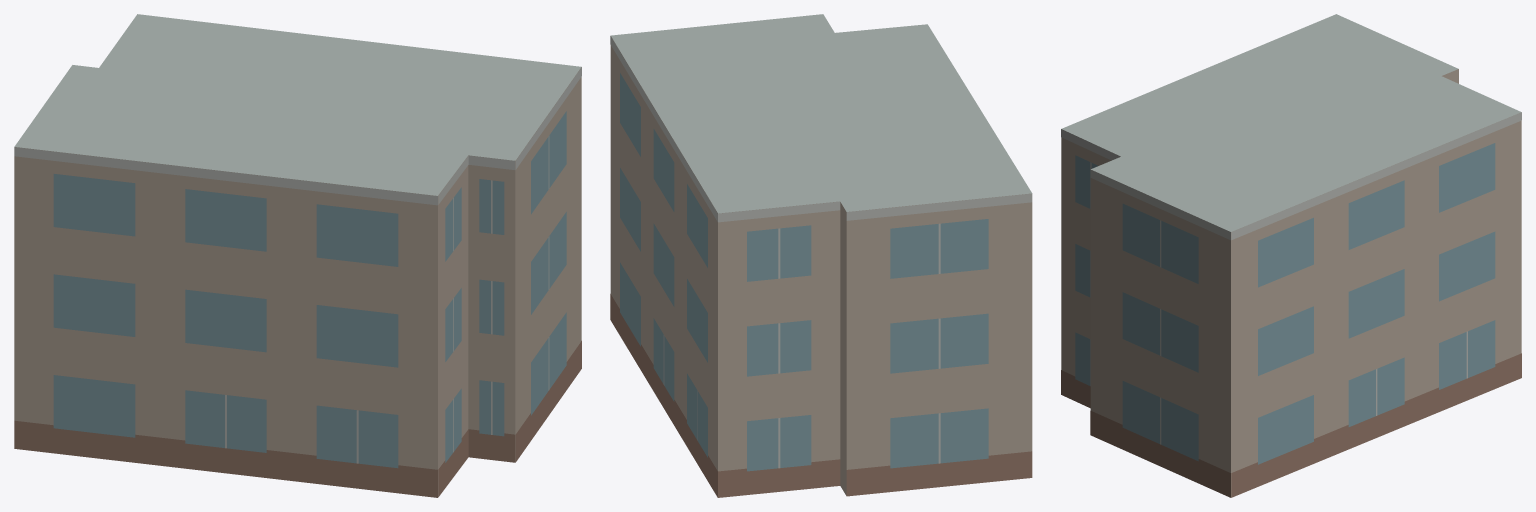
Rendered from survey-upis-32957456.glb.
3 views of the same model, side by side, from view 1: azimuth 30°, elevation 25°; view 2: azimuth 150°, elevation 25°; view 3: azimuth 270°, elevation 25° (orthographic). The views are drawn at different scales.
Parts seen in each view (by area): view 1: survey-upis-32957456.tmp; view 2: survey-upis-32957456.tmp; view 3: survey-upis-32957456.tmp.
Boxes of the visible parts, x1,y1,x2,y2 form: survey-upis-32957456.tmp: [14, 14, 581, 497]; survey-upis-32957456.tmp: [610, 14, 1032, 497]; survey-upis-32957456.tmp: [1061, 14, 1521, 497].
Bounding box in the file's own units: 13.73 × 7.8 × 12.26.
